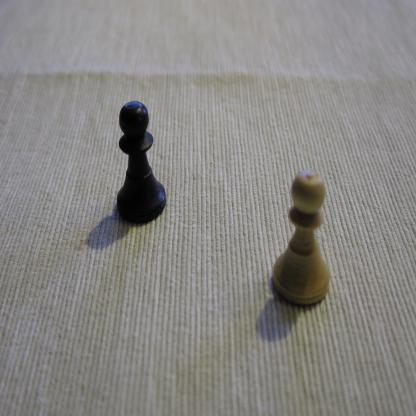black-pawn: (116, 99, 168, 226)
white-pawn: (271, 168, 331, 308)
